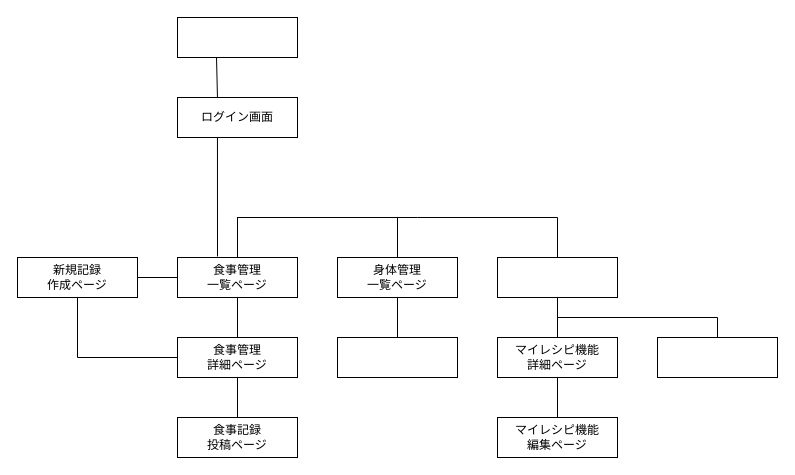
This 795x475 diagram has some shape labels left out. Each missing label, with the centre of its shape:
マイレシピ機能 一覧ページ: (x=557, y=277)
マイレシピ機能 投稿ページ: (x=717, y=357)
新規登録ページ: (x=237, y=37)
身体管理 投稿ページ: (x=397, y=357)
